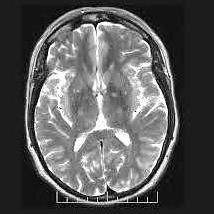Normal_Brain: (1, 1, 210, 214)
